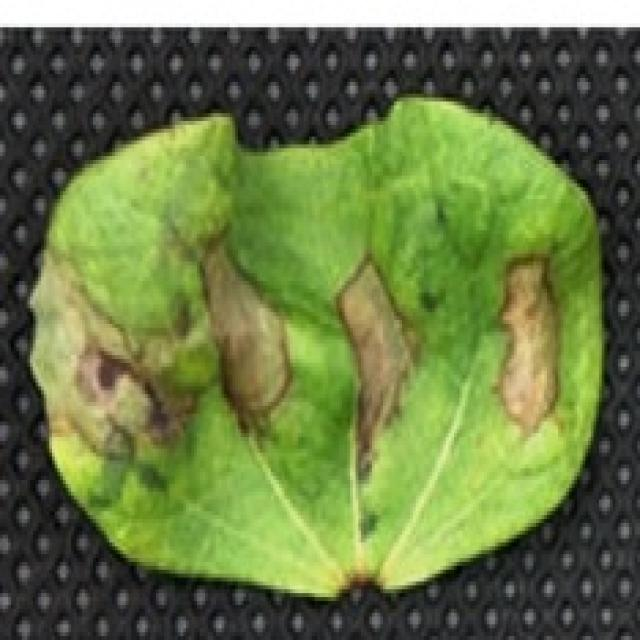Fusarium Wilt: (71, 215, 579, 458)
